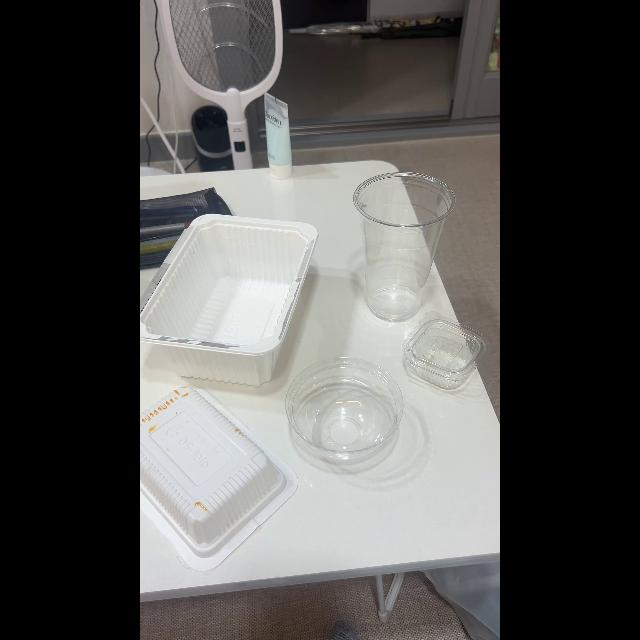clean: (148, 210, 298, 378), (354, 176, 436, 316), (298, 362, 400, 464), (404, 321, 486, 391)
dirty: (143, 388, 271, 552)
